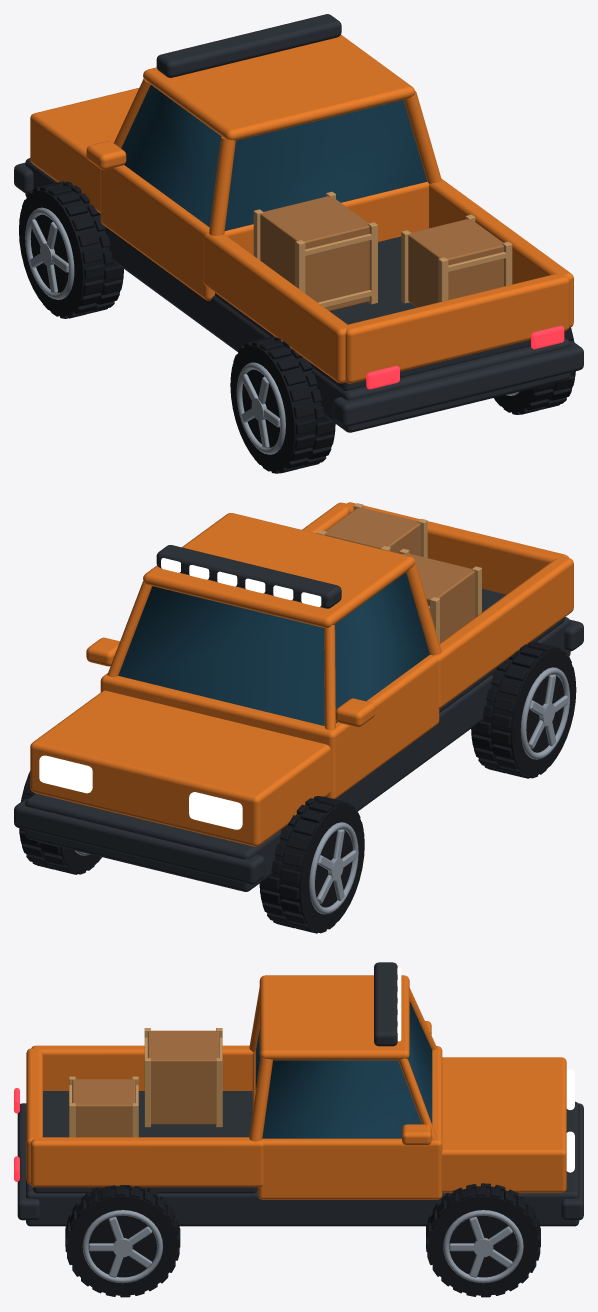
File: rugged-pickup.glb
The picture shows the model from 3 angles, top to bottom: view 1: azimuth 30°, elevation 25°; view 2: azimuth 150°, elevation 25°; view 3: azimuth 270°, elevation 25°; orthographic projection. The views are drawn at different scales.
Parts seen in each view (by area): view 1: Windows, Roof, Crate (×2), LowBedWall (×2), Tailgate, Tire (×3), Chassis, CabLower, Hood, RearBumper, RoofLightBar, BedFloor (+7 smaller); view 2: Hood, Windows, Roof, CabLower, Chassis, Tire (×3), LowBedWall (×2), FrontBumper, Crate (×2), Tailgate, RoofLightBar, Headlight (×2) (+5 smaller); view 3: LowBedWall (×2), Hood, Tire (×2), Windows, CabLower, Chassis, Roof, Crate (×2), BedFloor, Rim (×2), RoofLightBar, Tailgate (+6 smaller).
Part boxes in pixels (x1,y1,x2,y2): Windows: (121,85,426,230); Roof: (143,35,414,140); Crate (×2): (260,196,503,311); LowBedWall (×2): (203,178,573,383); Tailgate: (345,273,569,383); Tire (×3): (19,187,575,471); Chassis: (25,158,570,432); CabLower: (100,165,214,300); Hood: (30,88,138,213); RearBumper: (333,341,583,426); RoofLightBar: (156,14,341,77); BedFloor: (215,236,565,390); Hood: (30,690,331,846); Windows: (118,572,429,725); Roof: (143,513,415,627); CabLower: (100,655,439,799); Chassis: (25,617,570,891); Tire (×3): (19,646,576,930); LowBedWall (×2): (302,502,573,708); FrontBumper: (14,799,264,884); Crate (×2): (325,507,474,642); Tailgate: (346,502,568,594); RoofLightBar: (156,545,341,608); Headlight (×2): (39,755,242,829); LowBedWall (×2): (30,1045,263,1187); Hood: (441,1057,566,1192); Tire (×2): (68,1186,537,1295); Windows: (255,1001,432,1138); CabLower: (258,1046,442,1199); Chassis: (26,1101,579,1226); Roof: (259,975,409,1060); Crate (×2): (72,1030,219,1137); BedFloor: (33,1091,257,1193); Rim (×2): (82,1210,523,1283); RoofLightBar: (374,962,397,1046); Tailgate: (26,1048,42,1184).
Size of the model in its own units: 2.42 by 2.25 by 4.79.
